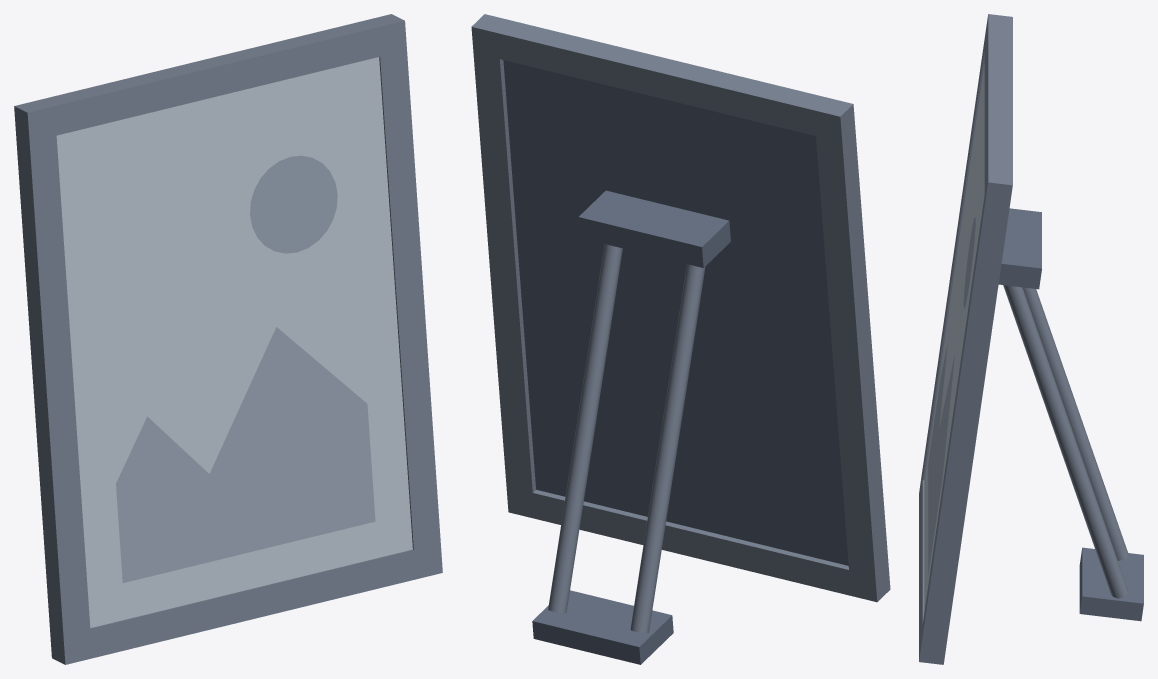
Rendered from desktop-frame-lite.glb.
The picture shows the model from 3 angles, left to right: view 1: azimuth 30°, elevation 25°; view 2: azimuth 150°, elevation 25°; view 3: azimuth 270°, elevation 25°; orthographic projection. The views are drawn at different scales.
Visible parts, largest first — view 1: desktop-frame-light, desktop-frame-frame, desktop-frame-soft, desktop-frame-accent; view 2: desktop-frame-dark, desktop-frame-frame; view 3: desktop-frame-frame, desktop-frame-dark, desktop-frame-light, desktop-frame-soft, desktop-frame-accent.
Boxes of the visible parts, bbox=[...] form: desktop-frame-light: bbox=[56, 57, 412, 627]; desktop-frame-frame: bbox=[14, 14, 442, 664]; desktop-frame-soft: bbox=[116, 327, 375, 582]; desktop-frame-accent: bbox=[250, 155, 337, 253]; desktop-frame-dark: bbox=[503, 60, 848, 664]; desktop-frame-frame: bbox=[471, 14, 890, 632]; desktop-frame-frame: bbox=[919, 14, 1128, 664]; desktop-frame-dark: bbox=[998, 208, 1143, 621]; desktop-frame-light: bbox=[924, 64, 984, 611]; desktop-frame-soft: bbox=[928, 343, 954, 574]; desktop-frame-accent: bbox=[963, 217, 975, 307].
Bounding box in the file's own units: 0.224 × 0.3093 × 0.1265.
